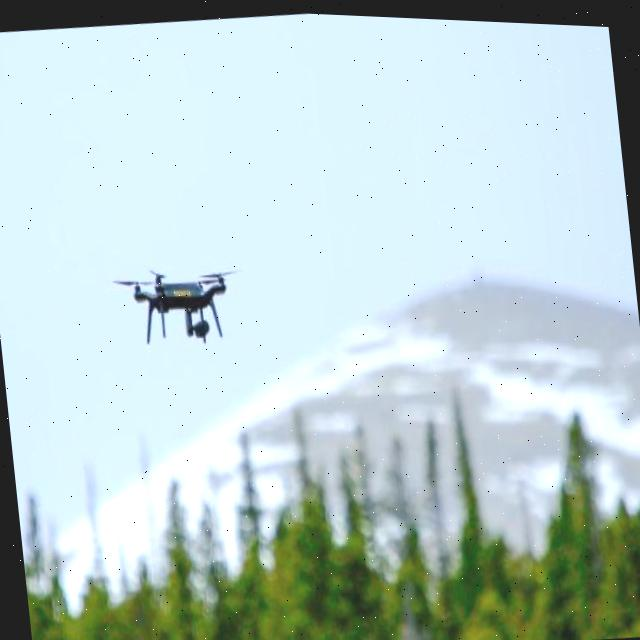drone: (112, 253, 246, 350)
